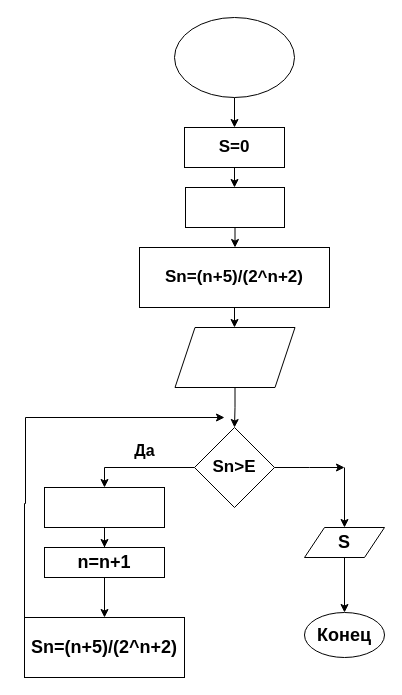
The diagram is 402 pixels wide and 695 high, and some of its shapes have lost their labels. The shapes that lost their labels are listed below. From the top down, each one's centre as x and y in pixels, then its label:
point 234,57: Начало
point 234,207: n=0
point 234,357: Вывод
point 104,507: S=S+Sn
